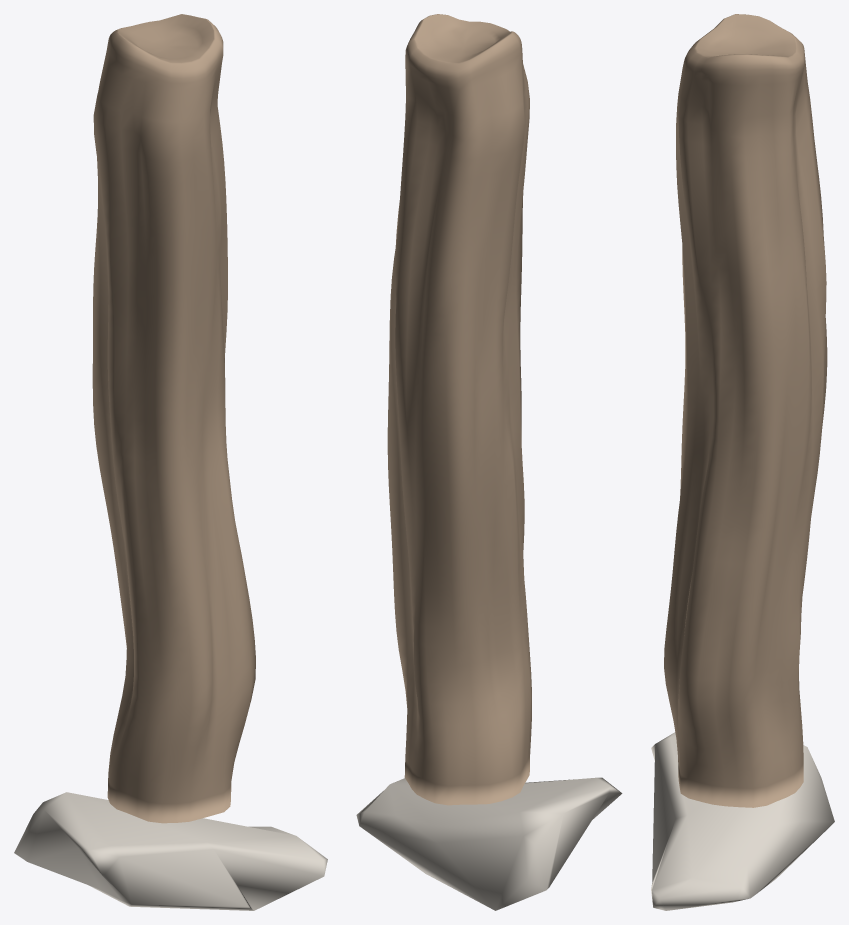
Rendered from bagana-f3-3x9x3-v2.glb.
3 views of the same model, side by side, from view 1: azimuth 30°, elevation 25°; view 2: azimuth 150°, elevation 25°; view 3: azimuth 270°, elevation 25° (orthographic). The views are drawn at different scales.
Parts seen in each view (by area): view 1: bagana_wood, bagana_stone; view 2: bagana_wood, bagana_stone; view 3: bagana_wood, bagana_stone.
Boxes of the visible parts, x1,y1,x2,y2 form: bagana_wood: (92,14,255,823); bagana_stone: (14,792,327,910); bagana_wood: (387,14,531,805); bagana_stone: (356,777,622,910); bagana_wood: (664,14,827,807); bagana_stone: (651,732,834,910).
Size of the model in its own units: 0.6434 by 2.24 by 0.4454.
